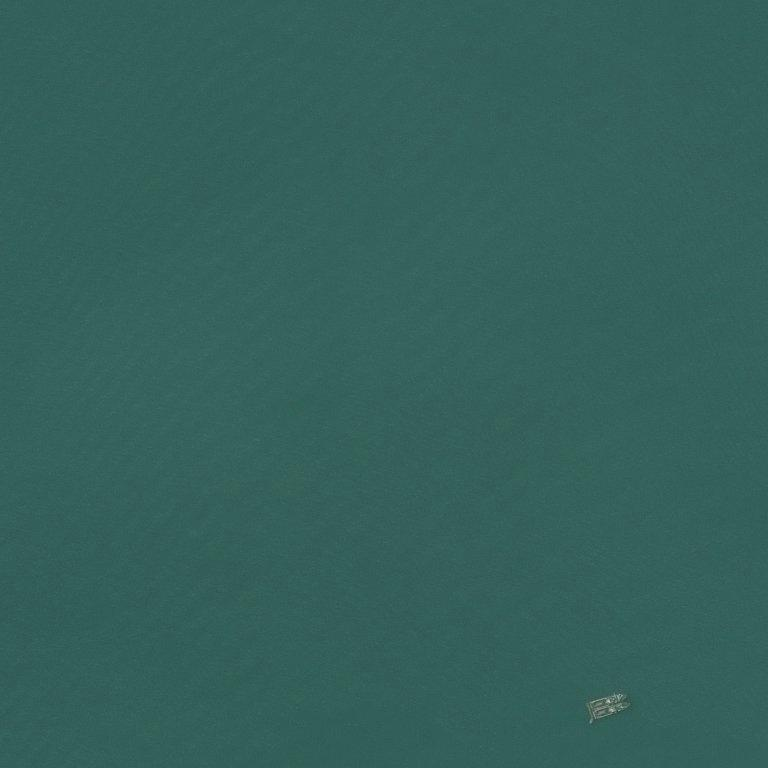ship: (584, 684, 629, 705), (591, 705, 595, 709), (623, 695, 625, 698), (590, 702, 593, 704)
